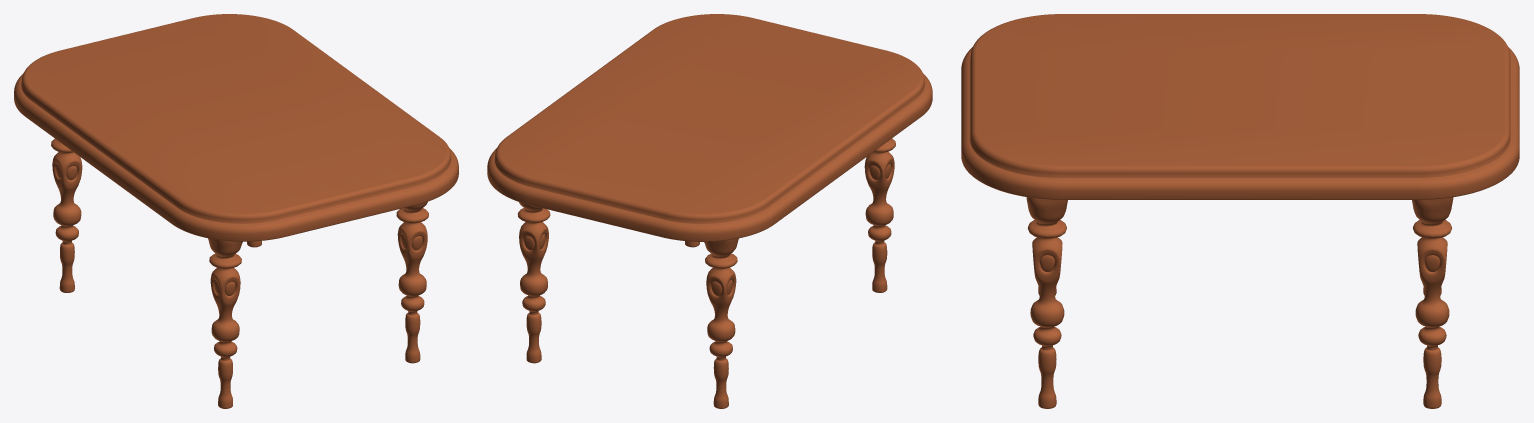
The model's file is Dining Table2.glb.
The picture shows the model from 3 angles, left to right: view 1: azimuth 30°, elevation 25°; view 2: azimuth 150°, elevation 25°; view 3: azimuth 270°, elevation 25°; orthographic projection. The views are drawn at different scales.
Visible parts, largest first — view 1: Cube, Cube.004, Cube.003, Cube.002; view 2: Cube, Cube.002, Cube.001, Cube.004; view 3: Cube, Cube.003, Cube.001.
Part boxes in pixels (left/top/right/bottom): Cube: left=14, top=14, right=458, bottom=241; Cube.004: left=208, top=238, right=242, bottom=408; Cube.003: left=396, top=201, right=428, bottom=363; Cube.002: left=51, top=139, right=82, bottom=292; Cube: left=487, top=14, right=932, bottom=241; Cube.002: left=704, top=238, right=738, bottom=408; Cube.001: left=517, top=202, right=550, bottom=363; Cube.004: left=864, top=138, right=895, bottom=292; Cube: left=961, top=14, right=1519, bottom=199; Cube.003: left=1026, top=197, right=1067, bottom=408; Cube.001: left=1412, top=197, right=1453, bottom=408.
Bounding box in the file's own units: 2 × 1.47 × 2.88.
